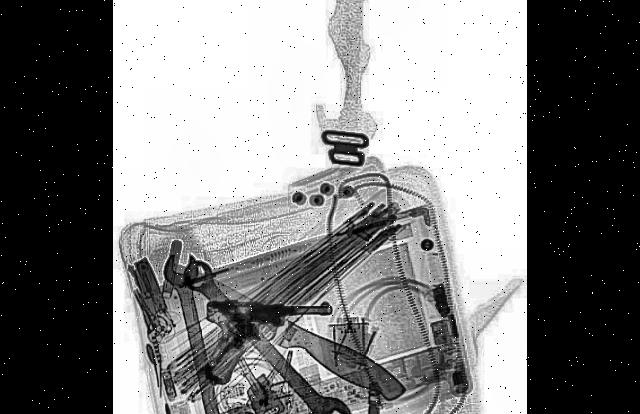Gun: (205, 298, 335, 395)
Knife: (208, 275, 408, 409)
Wrench: (176, 243, 355, 414), (162, 242, 240, 414)
